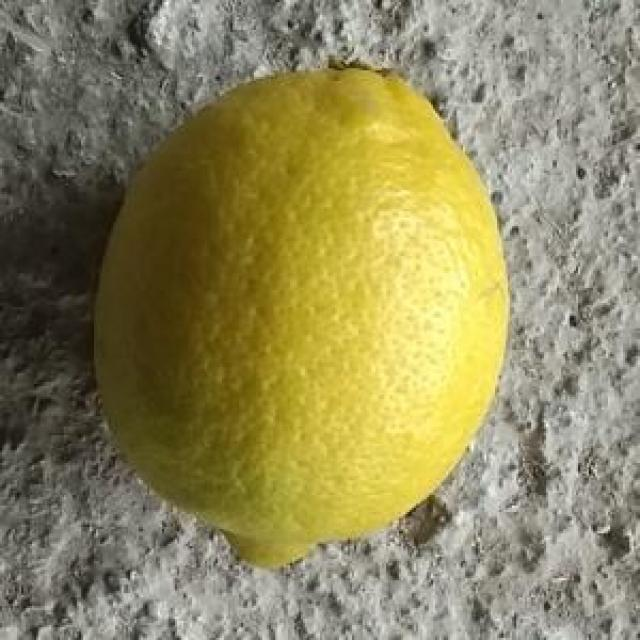lemon: (89, 54, 517, 575)
